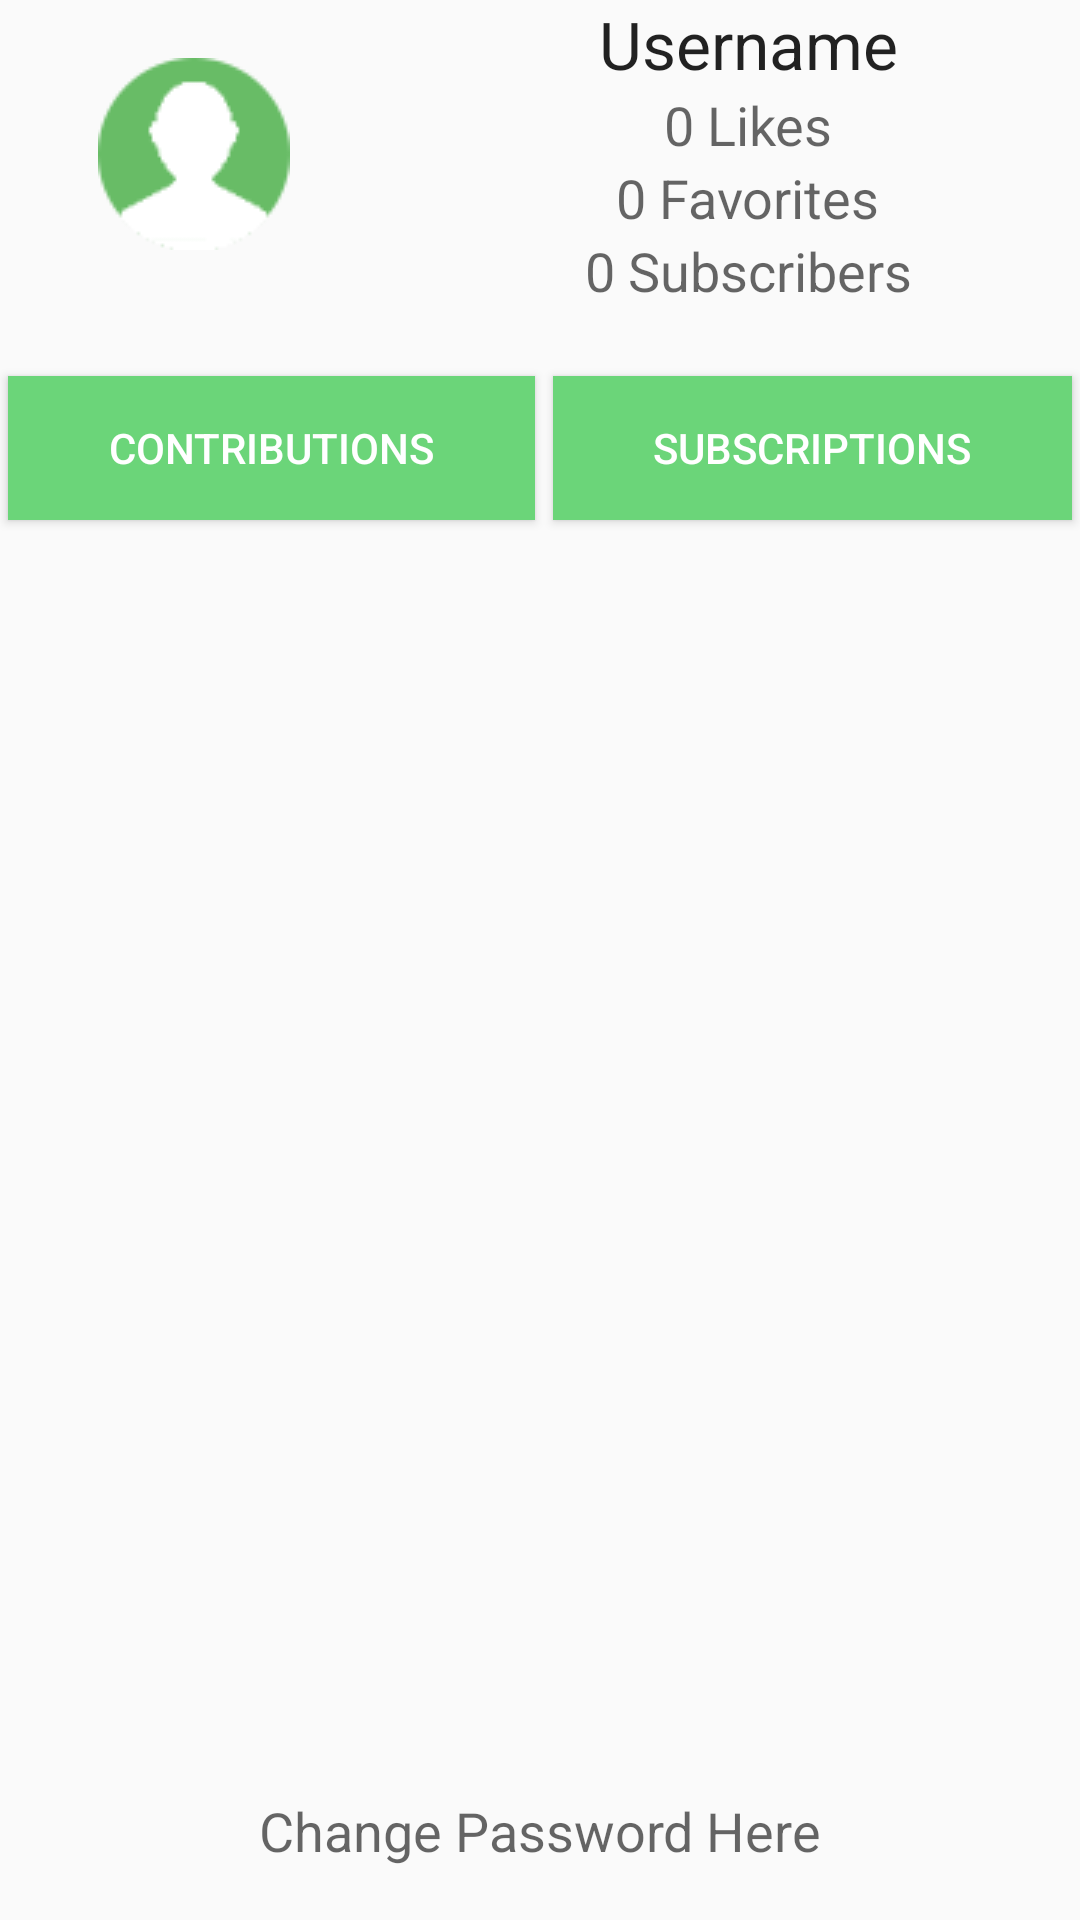

Named icons in this screenshot (1080*1920) and their centers, [x,y]:
conscribo profile: [194,152]
